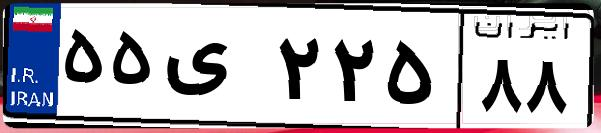2: (270, 28, 330, 110), (330, 28, 385, 110)
5: (385, 28, 445, 110), (57, 26, 110, 100), (110, 28, 158, 98)
8: (475, 38, 525, 113), (525, 38, 570, 115)
ی: (158, 20, 270, 120)
